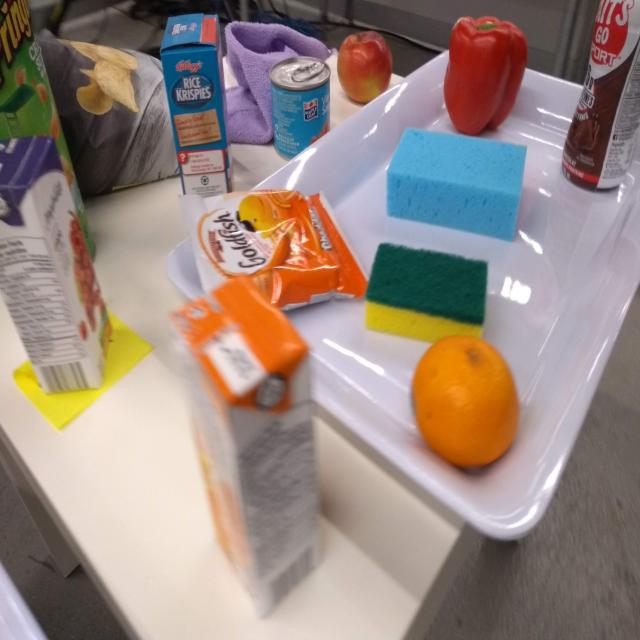apple: (336, 26, 394, 107)
cereal: (158, 9, 238, 202)
crackers: (184, 187, 369, 316)
orange: (409, 329, 526, 477)
orange_juice: (170, 270, 328, 627)
paprika: (439, 11, 531, 140)
sausages: (266, 52, 335, 166)
scrubby: (362, 238, 491, 348)
sponge_opl: (383, 123, 532, 245)
